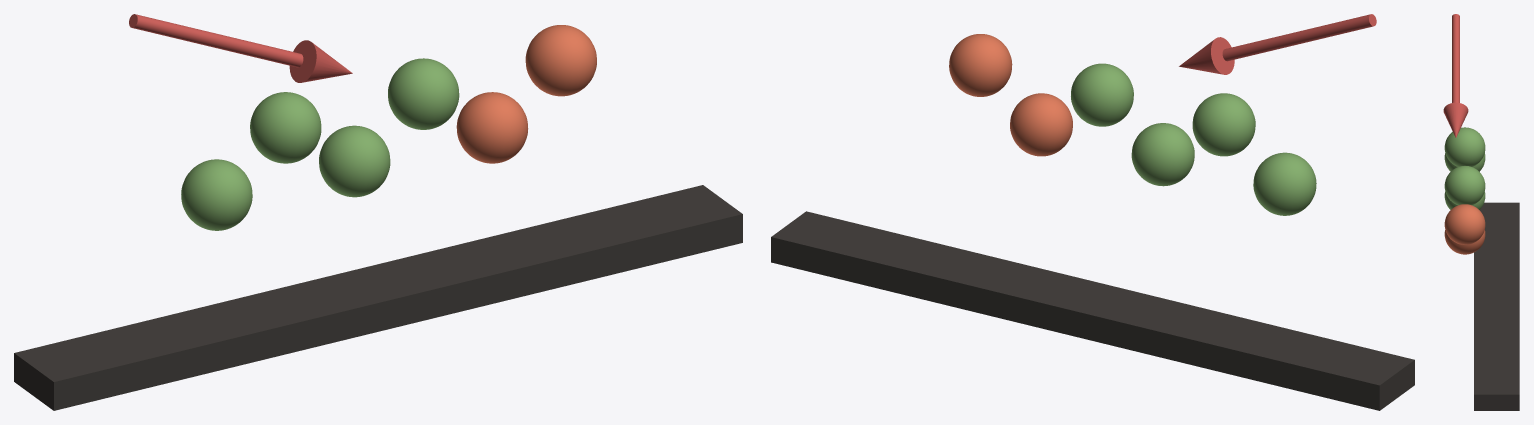
File: biology-evolution-natural-selection.glb
3 views of the same model, side by side, from view 1: azimuth 30°, elevation 25°; view 2: azimuth 150°, elevation 25°; view 3: azimuth 270°, elevation 25° (orthographic). The views are drawn at different scales.
Visible parts, largest first — view 1: generation-ground, selected-survivor-0, selected-survivor-1, selected-survivor-4, selected-survivor-2, selected-survivor-3, selected-survivor-5, selection-pressure-arrow-shaft, selection-pressure-arrow-head; view 2: generation-ground, selected-survivor-0, selected-survivor-1, selected-survivor-4, selected-survivor-3, selected-survivor-2, selected-survivor-5, selection-pressure-arrow-shaft, selection-pressure-arrow-head; view 3: generation-ground, selected-survivor-5, selected-survivor-3, selected-survivor-1, selection-pressure-arrow-shaft, selection-pressure-arrow-head, selected-survivor-4, selected-survivor-2, selected-survivor-0.
Boxes of the visible parts, bbox=[...] form: generation-ground: bbox=[14, 185, 742, 410]; selected-survivor-0: bbox=[181, 159, 252, 230]; selected-survivor-1: bbox=[250, 92, 321, 163]; selected-survivor-4: bbox=[456, 92, 528, 163]; selected-survivor-2: bbox=[319, 125, 390, 197]; selected-survivor-3: bbox=[388, 58, 459, 129]; selected-survivor-5: bbox=[525, 25, 596, 96]; selection-pressure-arrow-shaft: bbox=[129, 14, 303, 67]; selection-pressure-arrow-head: bbox=[289, 40, 352, 82]; generation-ground: bbox=[771, 211, 1414, 410]; selected-survivor-0: bbox=[1253, 152, 1316, 215]; selected-survivor-1: bbox=[1192, 93, 1255, 156]; selected-survivor-4: bbox=[1010, 93, 1072, 156]; selected-survivor-3: bbox=[1071, 63, 1133, 126]; selected-survivor-2: bbox=[1131, 123, 1194, 186]; selected-survivor-5: bbox=[949, 34, 1012, 96]; selection-pressure-arrow-shaft: bbox=[1222, 14, 1376, 61]; selection-pressure-arrow-head: bbox=[1179, 37, 1234, 74]; generation-ground: bbox=[1474, 202, 1519, 410]; selected-survivor-5: bbox=[1444, 204, 1485, 244]; selected-survivor-3: bbox=[1444, 166, 1485, 205]; selected-survivor-1: bbox=[1444, 127, 1485, 166]; selection-pressure-arrow-shaft: bbox=[1452, 14, 1459, 102]; selection-pressure-arrow-head: bbox=[1443, 102, 1468, 137]; selected-survivor-4: bbox=[1444, 230, 1485, 254]; selected-survivor-2: bbox=[1444, 191, 1485, 209]; selected-survivor-0: bbox=[1444, 153, 1485, 171].
Size of what is drawn, in the model's own units: 2 by 1.09 by 0.335.
